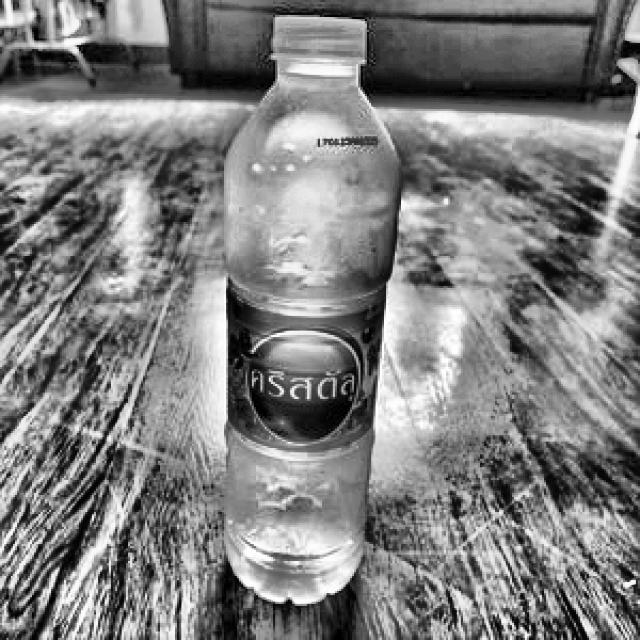waterbottle: (210, 7, 410, 620)
